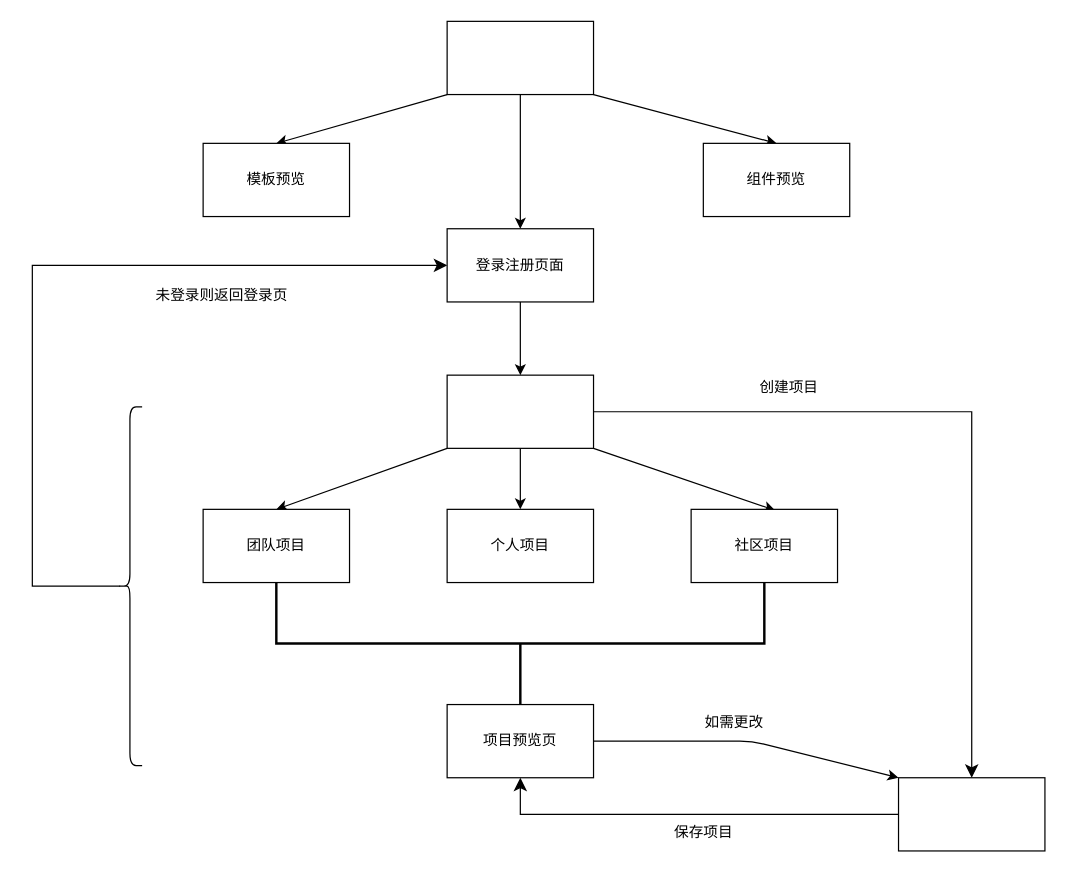
Some shapes in this 1066 by 872 pixel diagram are drawn without their labels. Here are the shapes that lost their labels. From the top down, the box of each, then its label:
(446, 20, 594, 95): 首页
(446, 374, 594, 448): 项目页
(274, 581, 765, 705): 选择项目后进入
(897, 777, 1045, 851): 编辑器页
